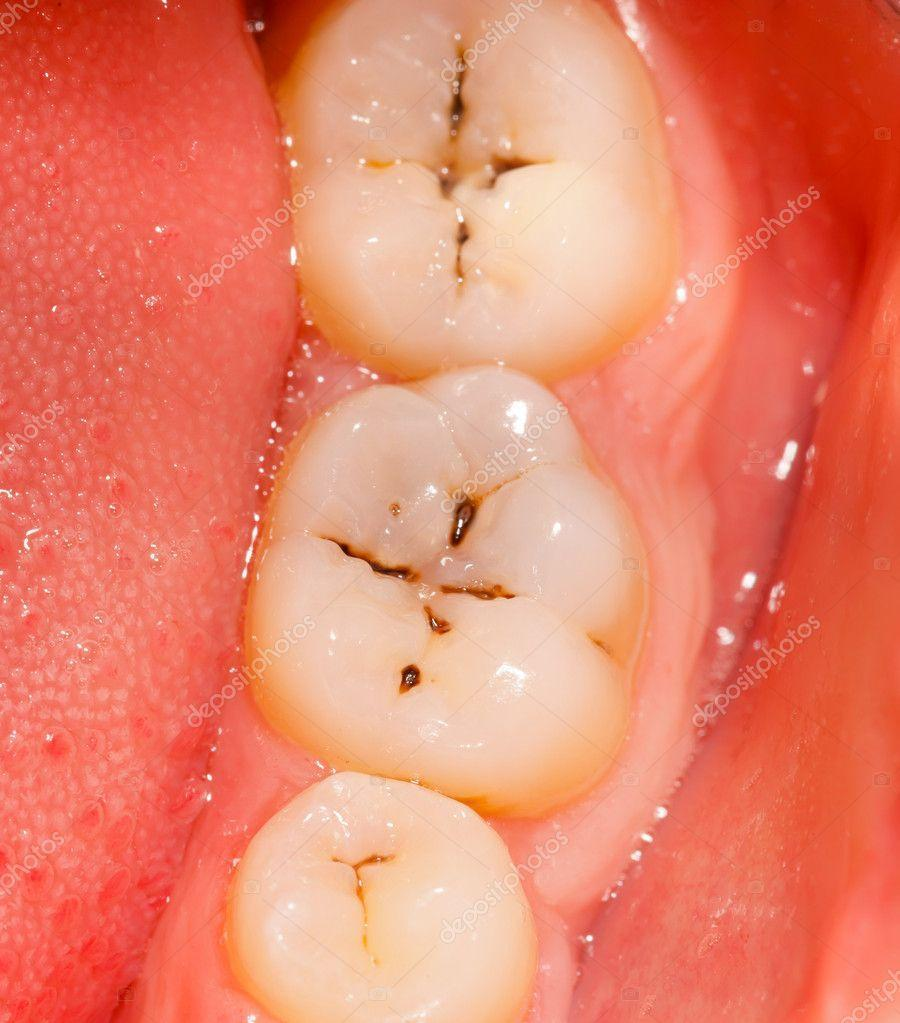cavity: (247, 367, 665, 809), (284, 0, 682, 365), (229, 768, 539, 1023)
